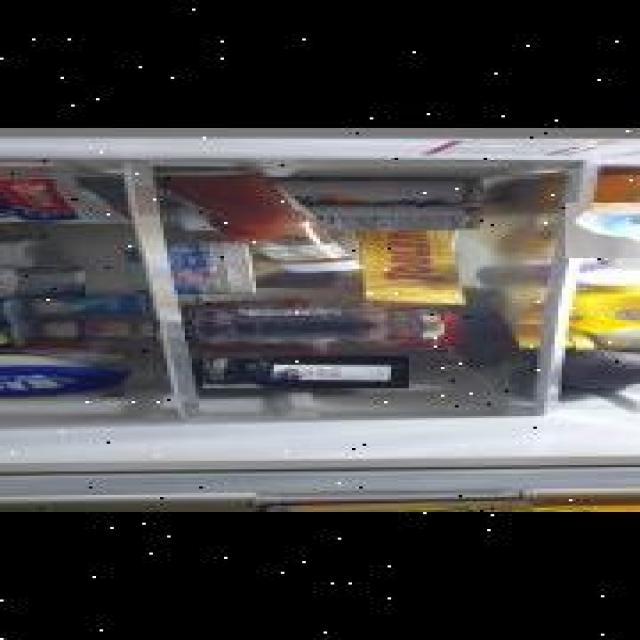avocado: (554, 349, 640, 388), (611, 347, 640, 373)
cheese: (0, 354, 121, 397), (160, 240, 249, 295), (0, 188, 60, 239), (0, 266, 82, 298)
marmelade: (198, 354, 404, 388)
mayonaise: (562, 203, 640, 258)
yogurt: (36, 320, 156, 339)
